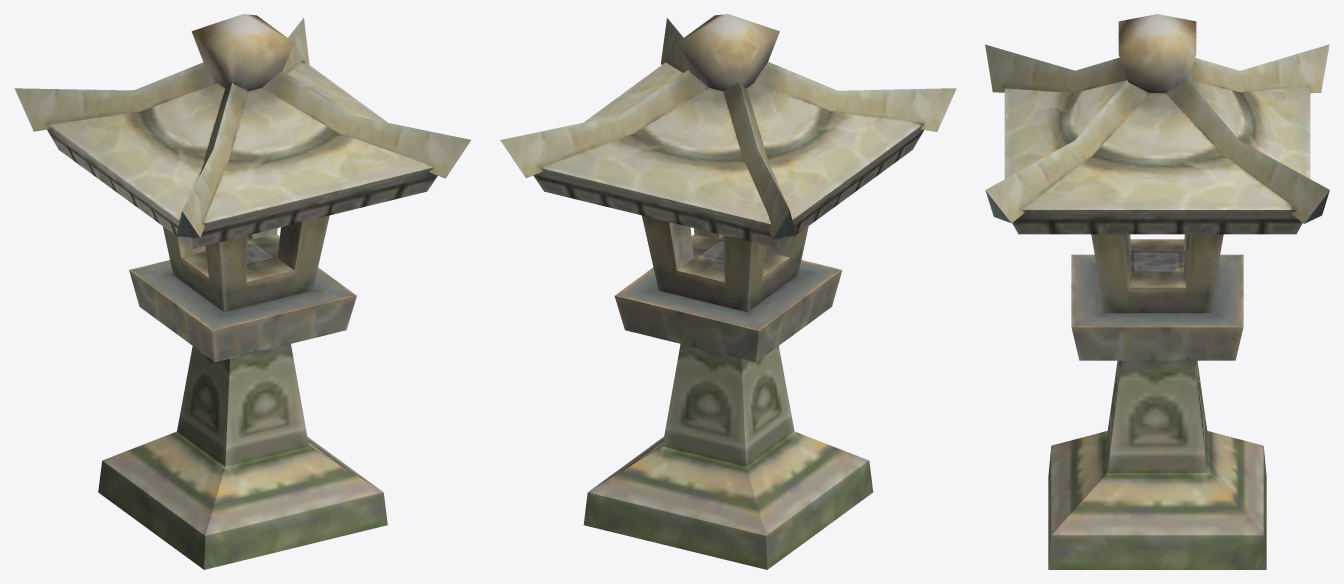
File: shi_deng_001.FBX
3 views of the same model, side by side, from view 1: azimuth 30°, elevation 25°; view 2: azimuth 150°, elevation 25°; view 3: azimuth 270°, elevation 25° (orthographic). The views are drawn at different scales.
Parts seen in each view (by area): view 1: shi_deng_001; view 2: shi_deng_001; view 3: shi_deng_001.
Part boxes in pixels (<box>): shi_deng_001: <box>14,14,470,569</box>; shi_deng_001: <box>500,14,956,569</box>; shi_deng_001: <box>985,14,1329,569</box>.
Size of the model in its own units: 133 by 218 by 133.
1 material, 1 textured.
